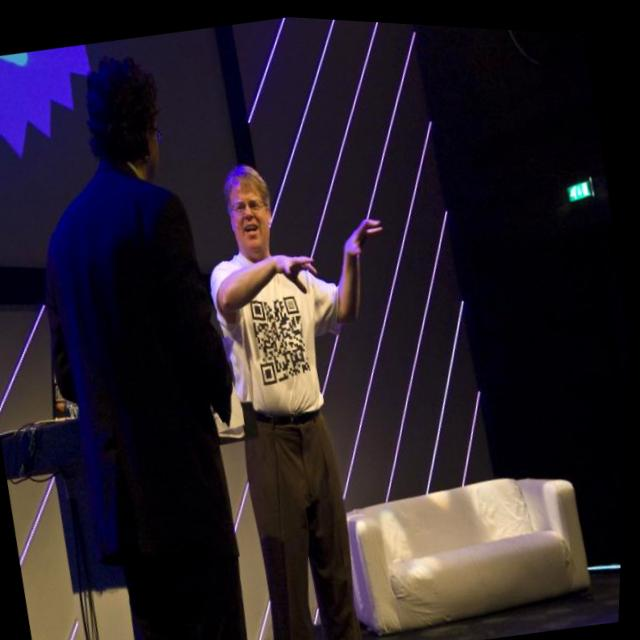qrcode: (251, 290, 317, 386)
